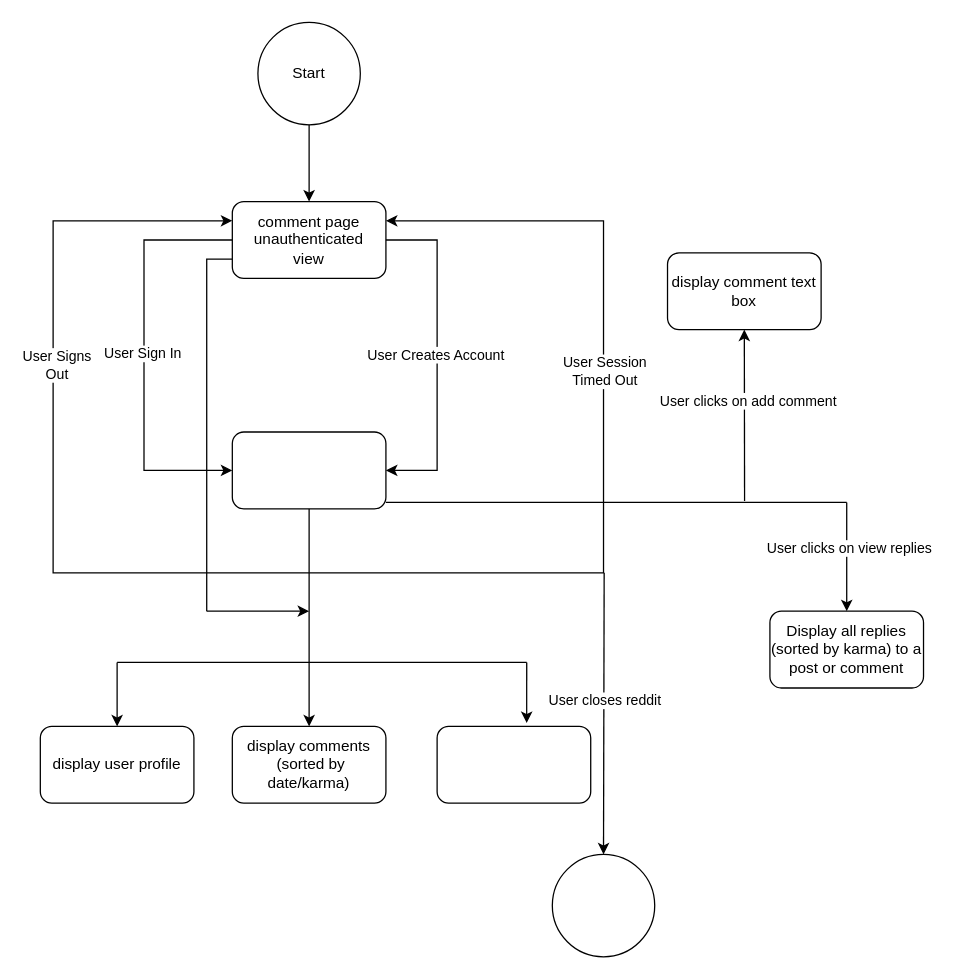
Image size: 954x979. Some labels were removed from this diagram. Each missing label, with the centre of its shape:
comment page authenticated view: the point at 308,470
display post (sorted by date/karma): the point at 513,764
End: the point at 603,905
